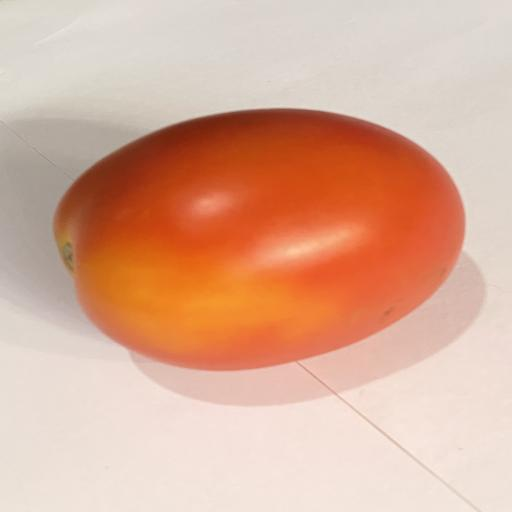ripe: (54, 109, 465, 370)
